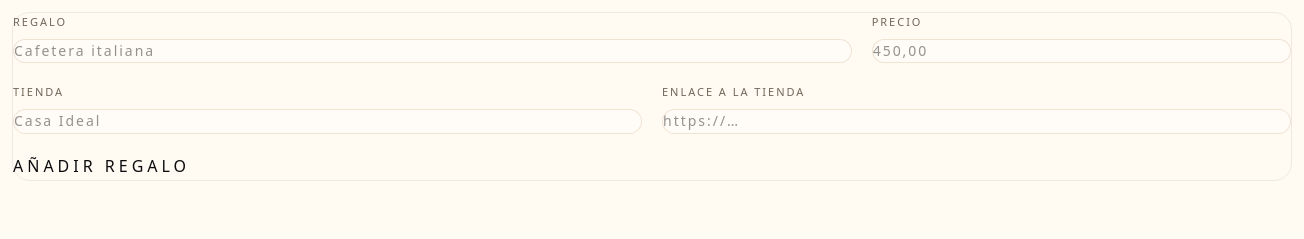
Test: GiftForm › enseña el error que devuelve el servidor
In the field labelled "Regalo": (432, 51) [13,39,852,64], type "Cafetera"
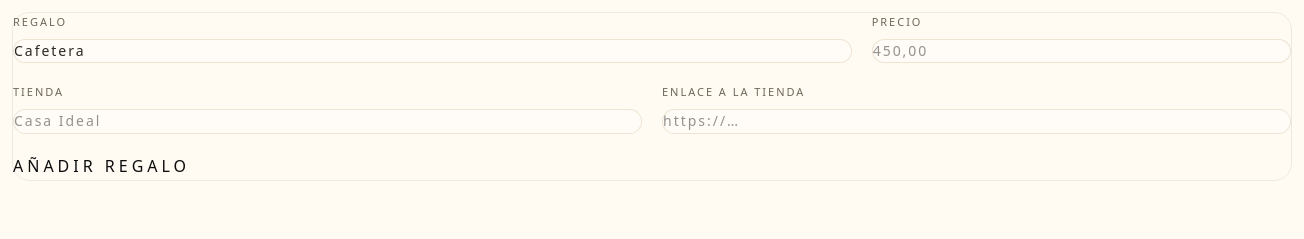
In the field labelled "Precio": (1081, 51) [872,39,1291,64], type "100"
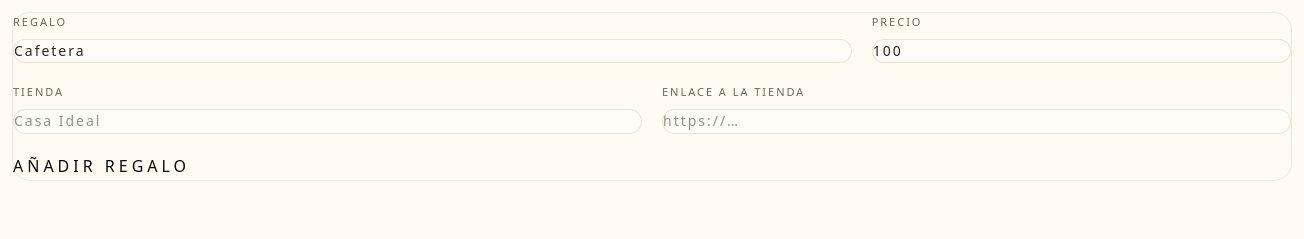
In the field labelled "Enlace a la tienda": (976, 122) [662,109,1291,134], type "javascript:alert(1)"
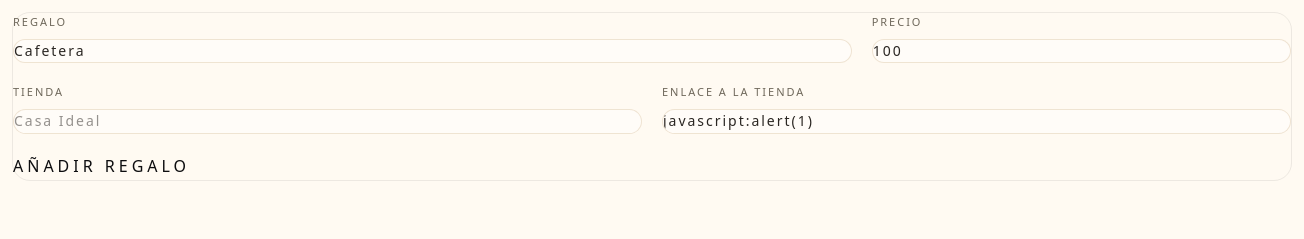
Click the button "Añadir regalo": (102, 167) [13,154,190,180]
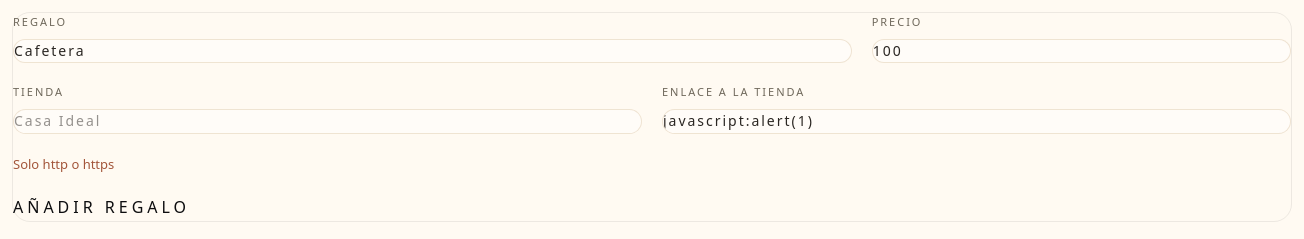
expect the message reads "Solo http o https": met, box [13,155,114,173]
